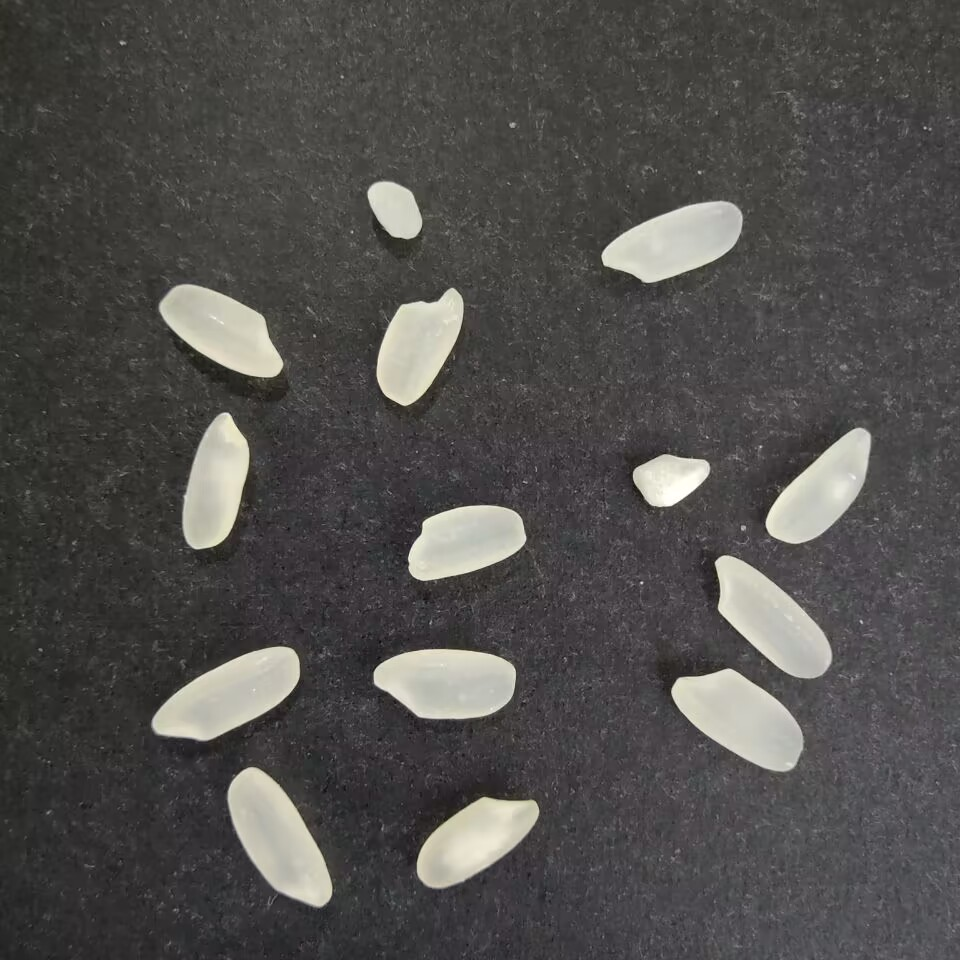broken: (632, 453, 710, 507), (366, 180, 422, 240)
rice: (226, 766, 333, 907), (714, 554, 831, 679), (151, 645, 299, 741), (670, 667, 803, 772), (765, 427, 871, 544), (158, 283, 283, 378), (600, 201, 743, 283), (416, 795, 539, 889), (375, 287, 463, 407), (372, 648, 516, 720), (181, 411, 249, 549), (407, 504, 525, 581)
